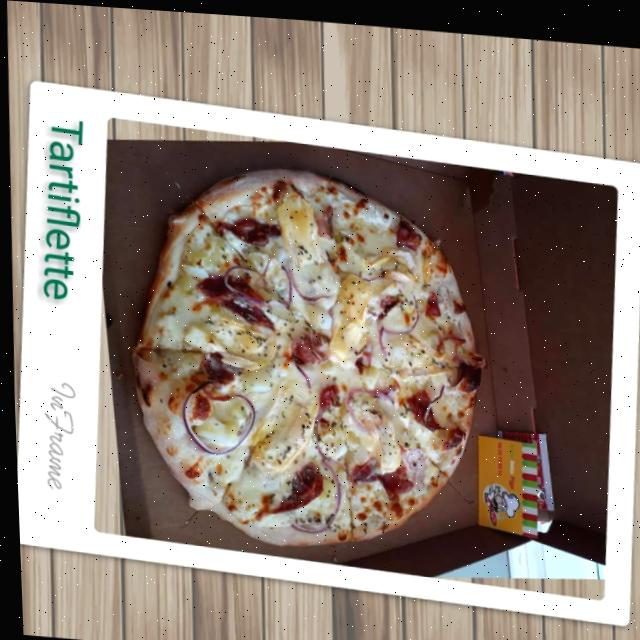pizza: (118, 151, 493, 559)
